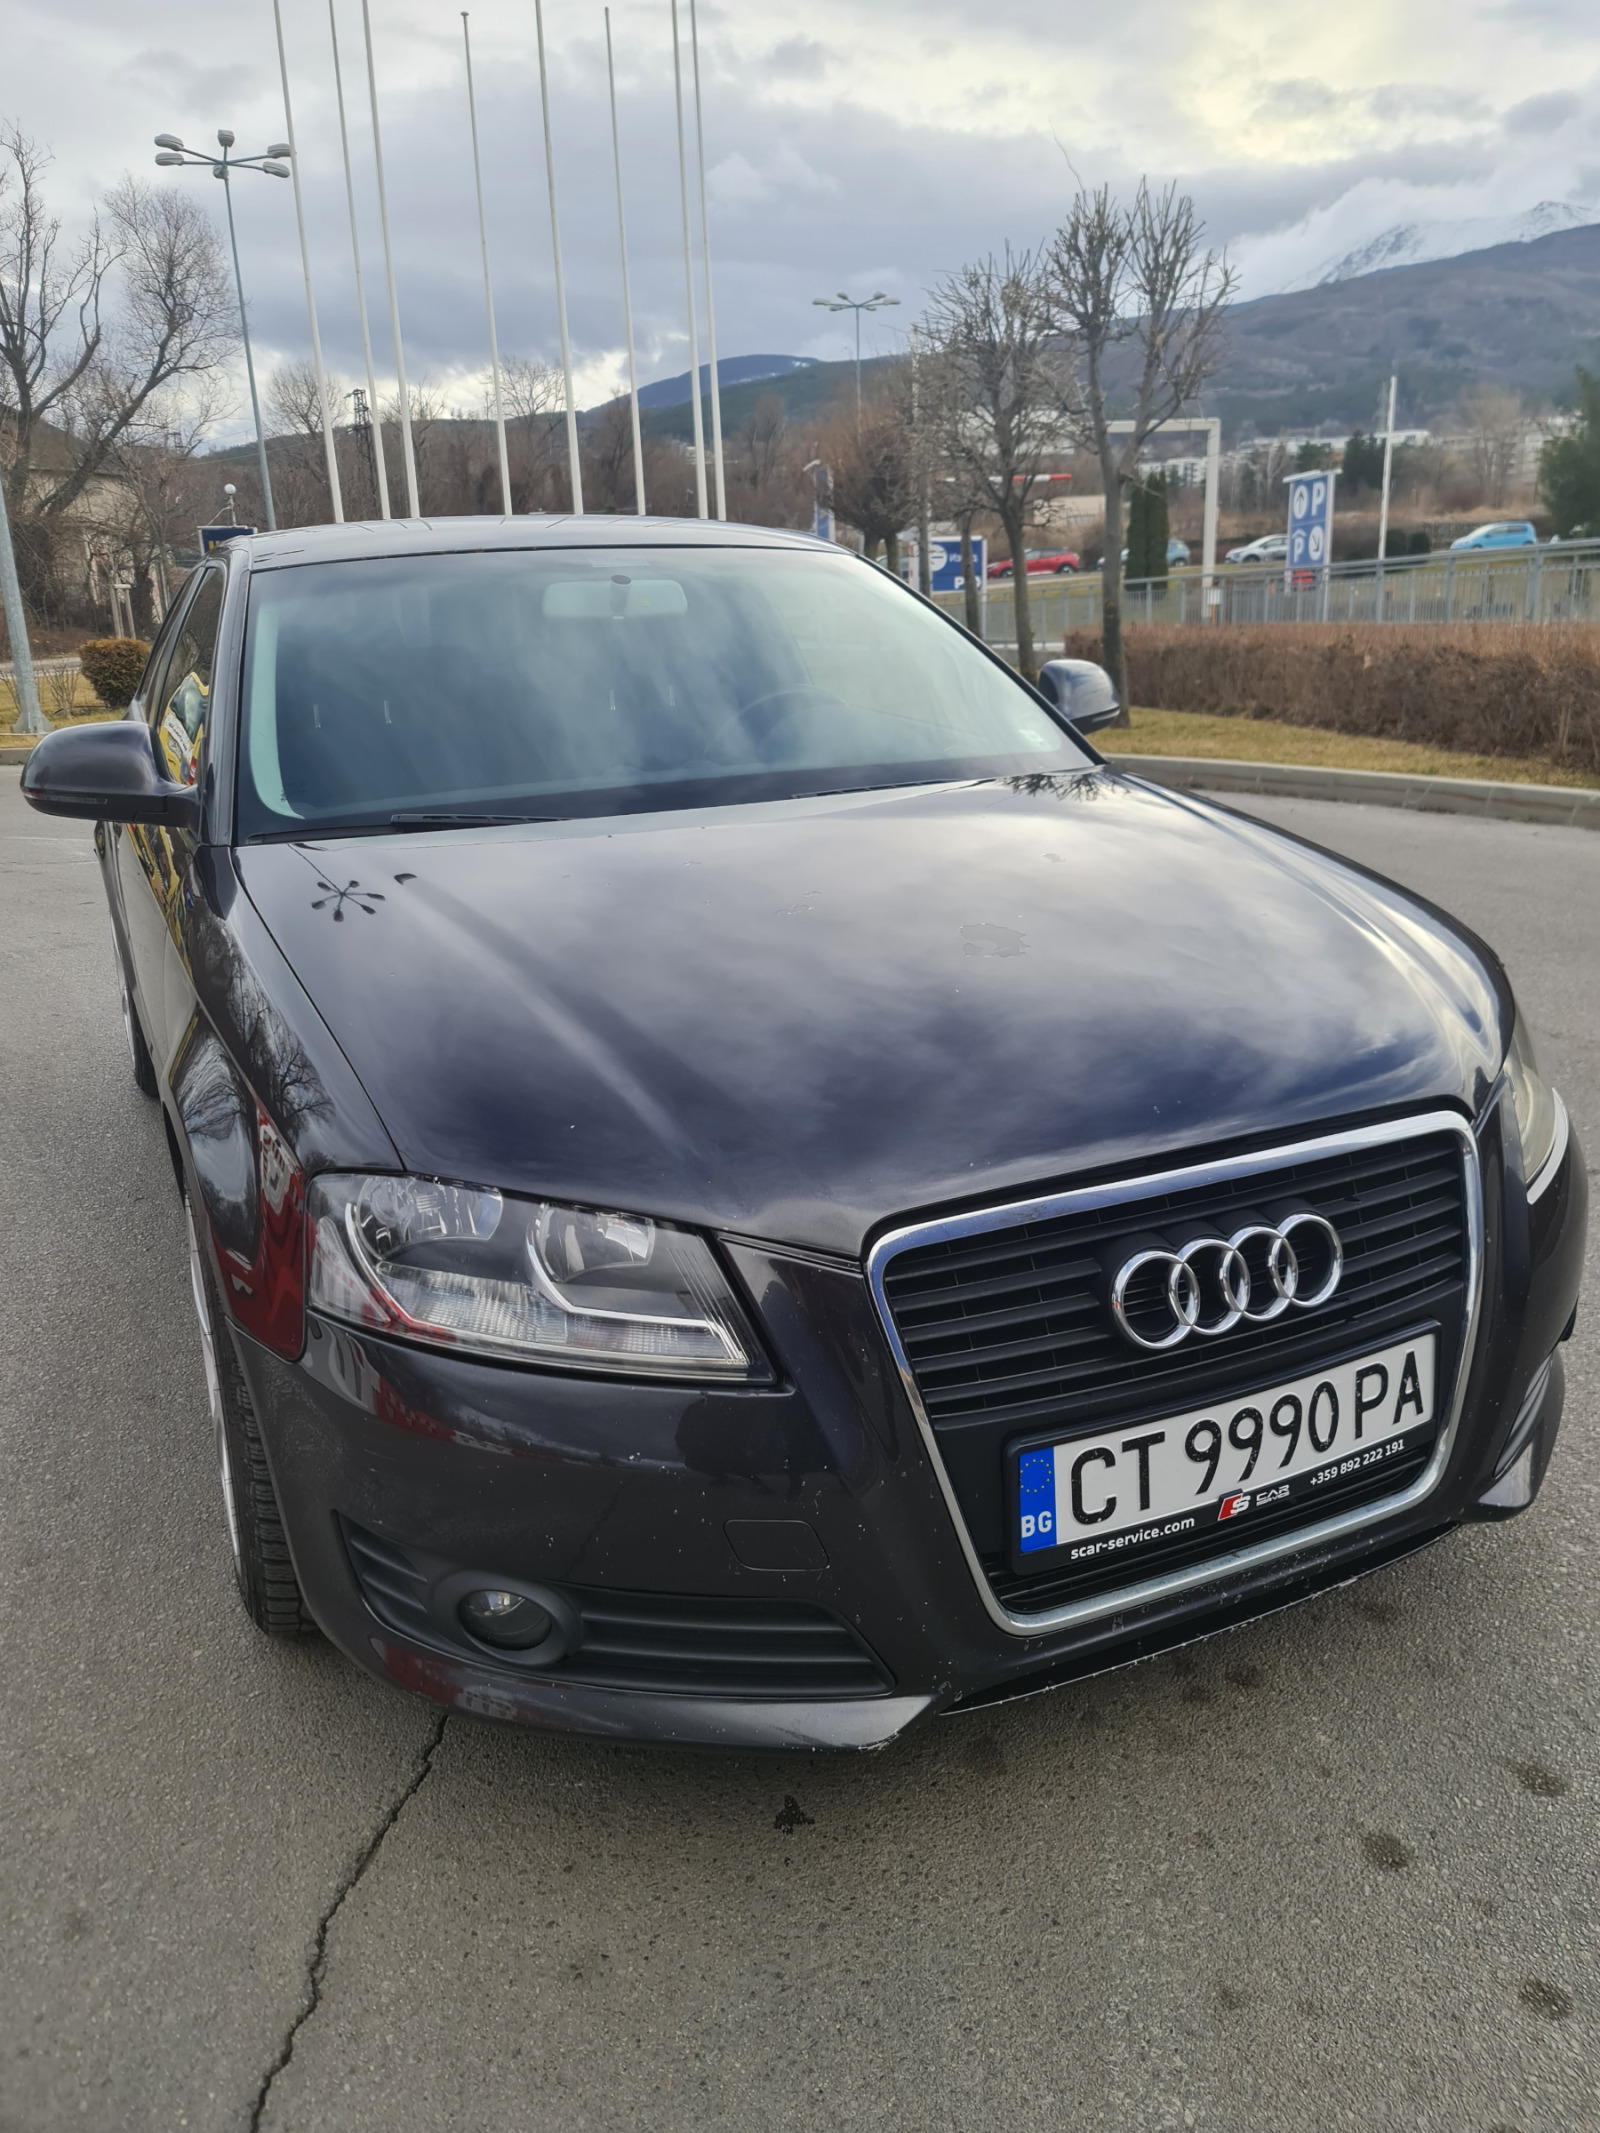registration_plate: (1023, 1324, 1447, 1565)
